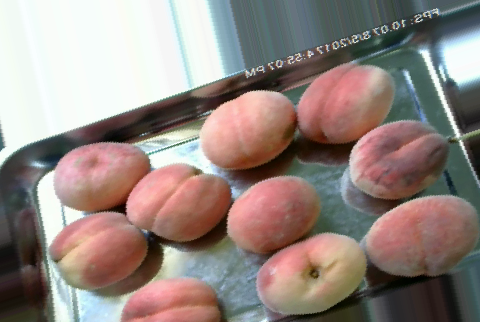Peach: (364, 194, 477, 277), (255, 233, 365, 316), (127, 162, 229, 242), (48, 211, 150, 290), (348, 120, 448, 198), (298, 62, 393, 144), (201, 90, 297, 170), (49, 140, 153, 212), (226, 175, 320, 252), (119, 277, 222, 322)
